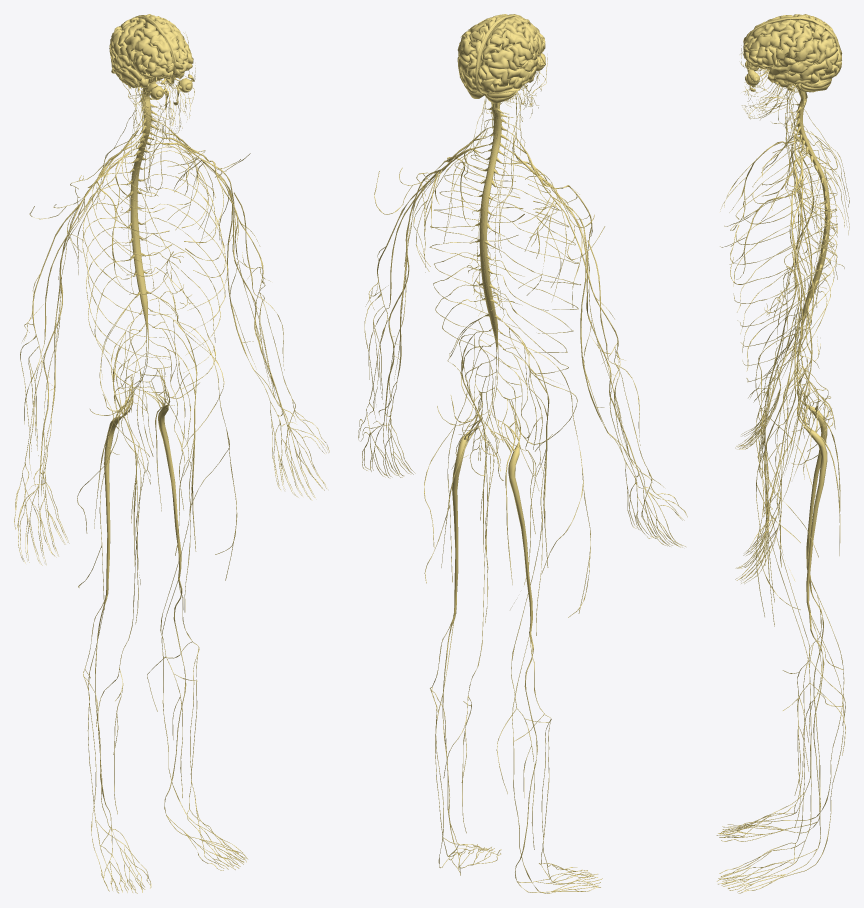
Rendered from nervous-female.glb.
3 views of the same model, side by side, from view 1: azimuth 30°, elevation 25°; view 2: azimuth 150°, elevation 25°; view 3: azimuth 270°, elevation 25° (orthographic). The views are drawn at different scales.
Parts seen in each view (by area): view 1: nervous; view 2: nervous; view 3: nervous.
Part boxes in pixels (x1=…): nervous: x1=14, y1=14, x2=329, y2=893; nervous: x1=358, y1=14, x2=687, y2=893; nervous: x1=716, y1=14, x2=849, y2=893.
Bounding box in the file's own units: 0.6674 × 1.69 × 0.2427.
